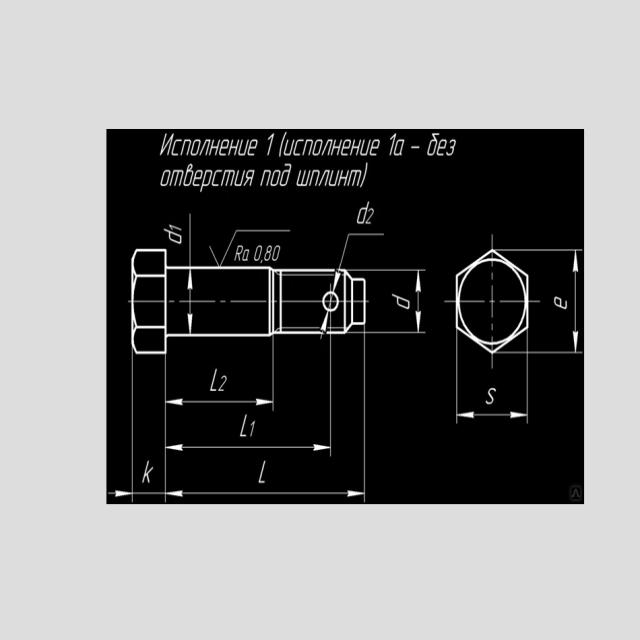marking_line: (113, 355, 366, 502), (164, 355, 334, 457), (164, 355, 275, 412), (530, 248, 582, 355), (454, 354, 529, 423), (367, 268, 426, 337), (339, 230, 386, 269), (185, 271, 195, 334), (331, 271, 341, 292), (321, 311, 330, 333)
numeric: (391, 292, 411, 311), (357, 200, 369, 225), (142, 459, 153, 484), (165, 228, 181, 245), (554, 294, 568, 312), (258, 460, 268, 484), (209, 365, 217, 393), (484, 388, 497, 404), (239, 413, 247, 438), (273, 243, 282, 261), (254, 243, 262, 262), (366, 207, 374, 225), (218, 375, 227, 391), (265, 243, 272, 262), (170, 224, 182, 232), (250, 419, 255, 437)
special_symbol: (208, 227, 291, 267)
